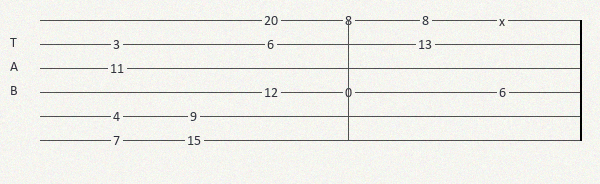0: (345, 86, 356, 99)
11: (110, 62, 128, 75)
12: (264, 86, 282, 99)
13: (418, 38, 436, 51)
15: (187, 134, 205, 147)
20: (264, 14, 282, 27)
3: (113, 38, 124, 51)
4: (113, 110, 124, 123)
6: (267, 38, 278, 51), (499, 86, 510, 99)
7: (113, 134, 124, 147)
8: (345, 14, 356, 27), (422, 14, 433, 27)
9: (190, 110, 201, 123)
x: (499, 15, 509, 26)
